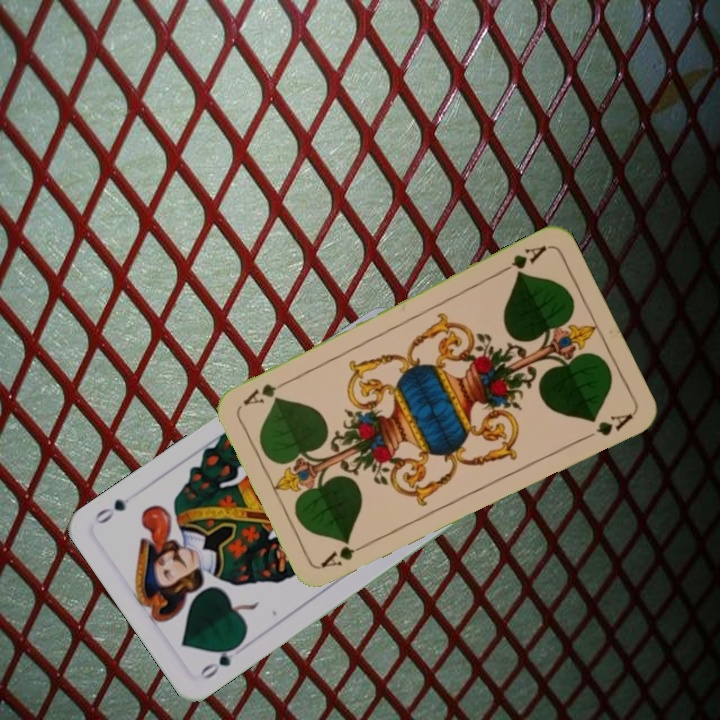GA: (495, 241, 549, 279), (317, 537, 374, 570)
GO: (196, 638, 244, 682)
